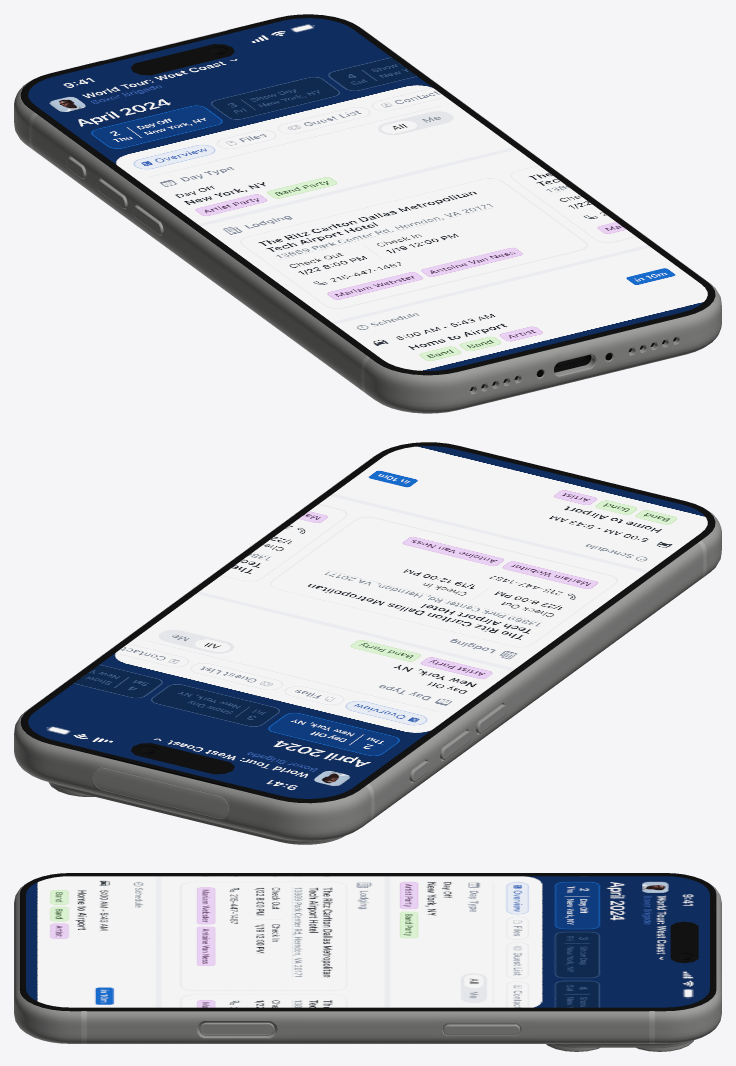
Rendered from DayView3D7.glb.
3 renders of one model, top to bottom at view 1: azimuth 30°, elevation 25°; view 2: azimuth 150°, elevation 25°; view 3: azimuth 270°, elevation 25°, orthographic. The views are drawn at different scales.
Visible parts, largest first — view 1: Display, Body, Display_Glass, Buttons; view 2: Display, Body, Display_Glass, Anteena_Bands, Buttons; view 3: Display, Body, Display_Glass, Buttons, Anteena_Bands, Camera_Rings.
Part boxes in pixels (bbox=[...]): Display: bbox=[28, 18, 707, 370]; Body: bbox=[14, 27, 721, 413]; Display_Glass: bbox=[20, 14, 715, 375]; Buttons: bbox=[66, 157, 163, 235]; Display: bbox=[28, 446, 707, 798]; Body: bbox=[14, 451, 721, 844]; Display_Glass: bbox=[20, 442, 715, 803]; Anteena_Bands: bbox=[33, 460, 706, 842]; Buttons: bbox=[409, 704, 506, 782]; Display: bbox=[26, 876, 716, 1007]; Body: bbox=[14, 882, 721, 1047]; Display_Glass: bbox=[19, 873, 716, 1011]; Buttons: bbox=[199, 1022, 520, 1035]; Anteena_Bands: bbox=[81, 924, 721, 1045]; Camera_Rings: bbox=[546, 1040, 693, 1051].
Bounding box in the file's own units: 7.87 × 1.32 × 16.3.
14 materials, 2 textured.
